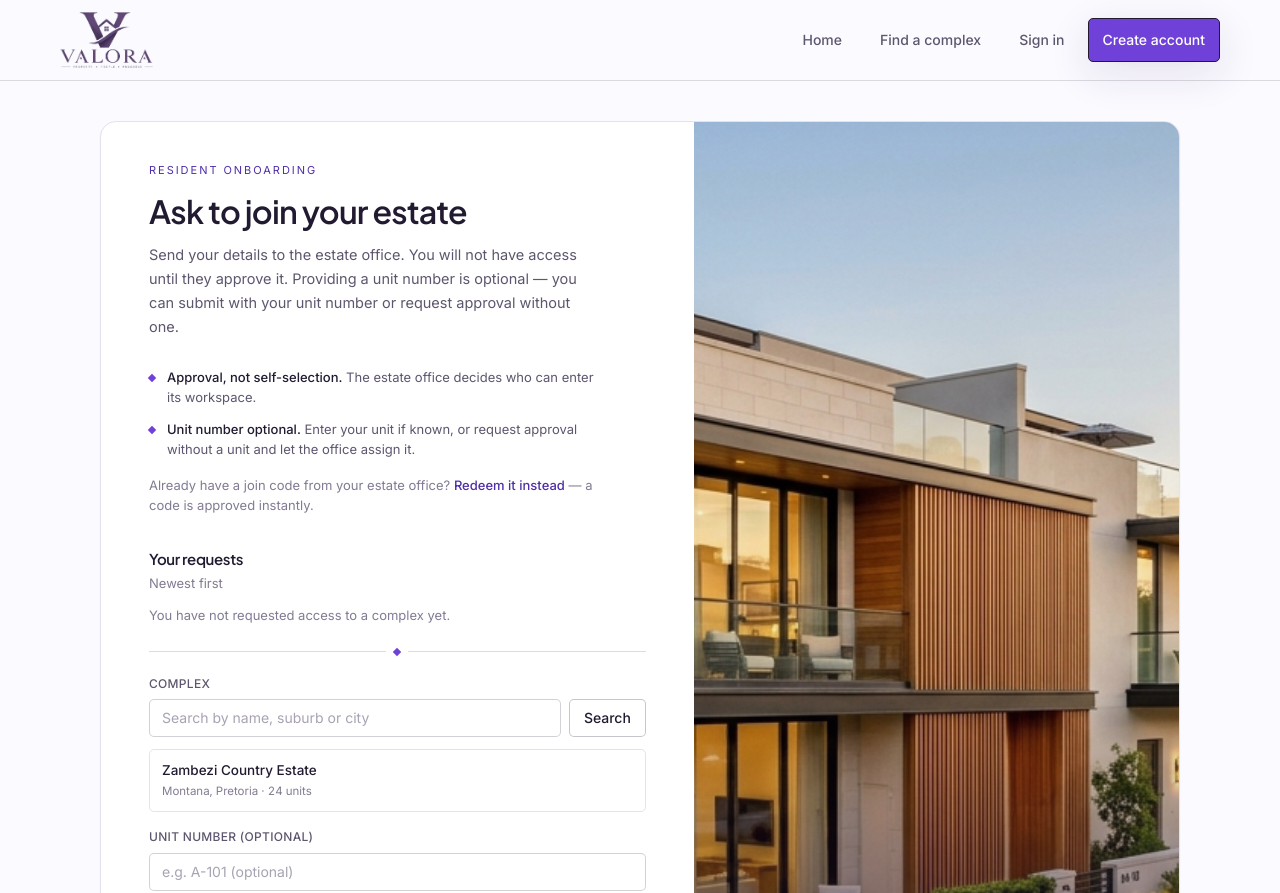
Test case: RequestAccess › submits with unit number when the resident provides one
The image size is (1280, 893).
Click the button "Zambezi Country Estate Montana, Pretoria · 24 units" at [239, 770], box [149,750,646,812]
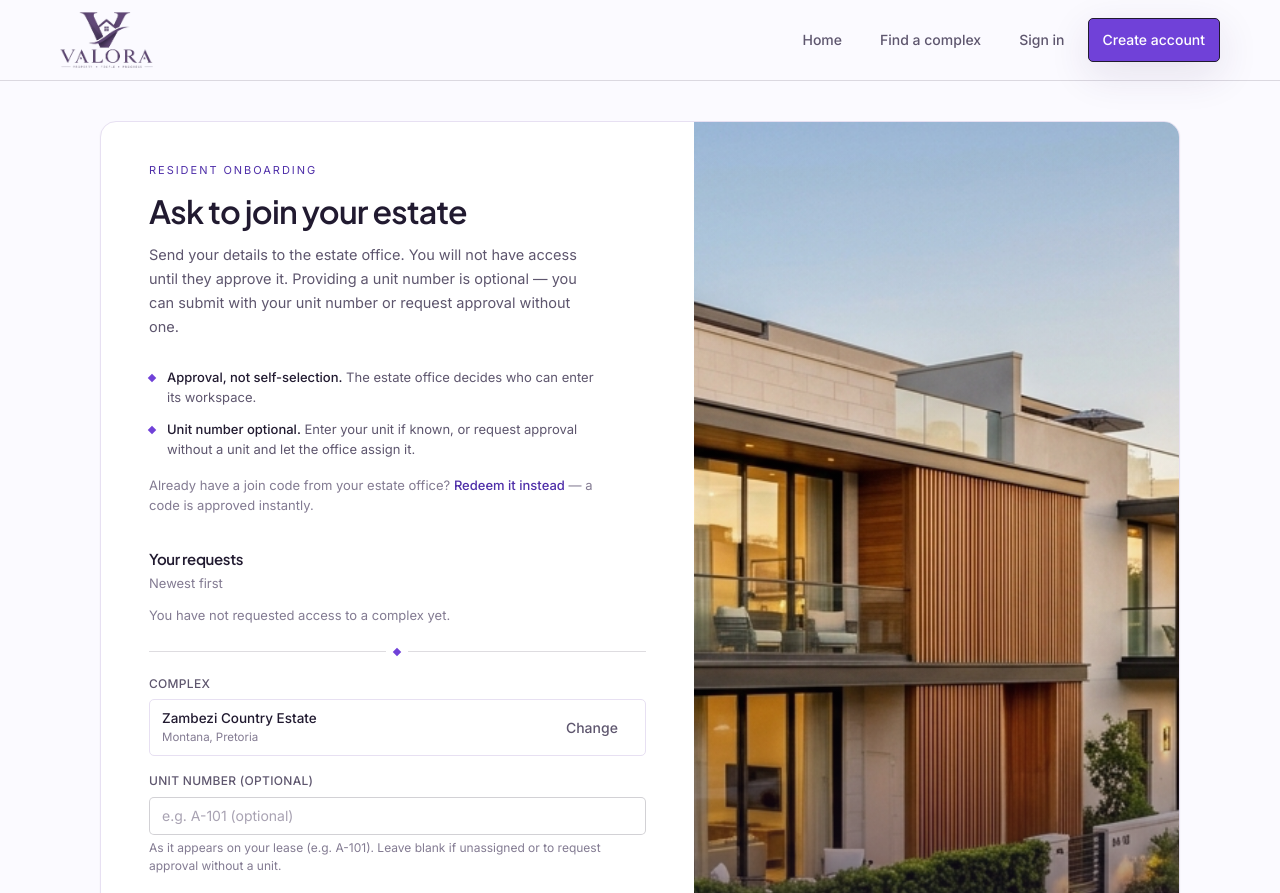
Type "B-204" into the field labelled "Unit number (optional)" at [397, 816], box [149,797,646,835]
(page scrolled)
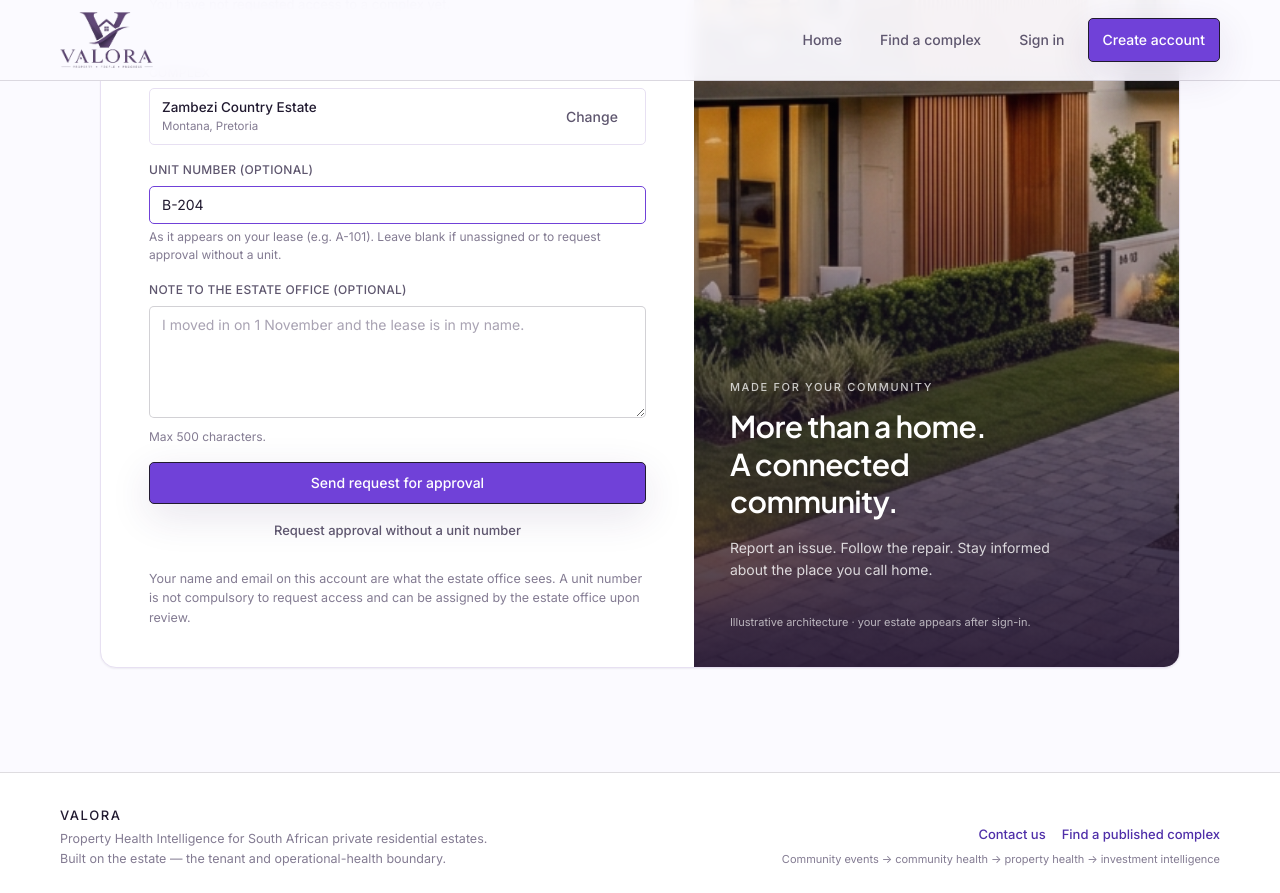
Click the button "Send request for approval" at [397, 483], box [149,462,646,504]
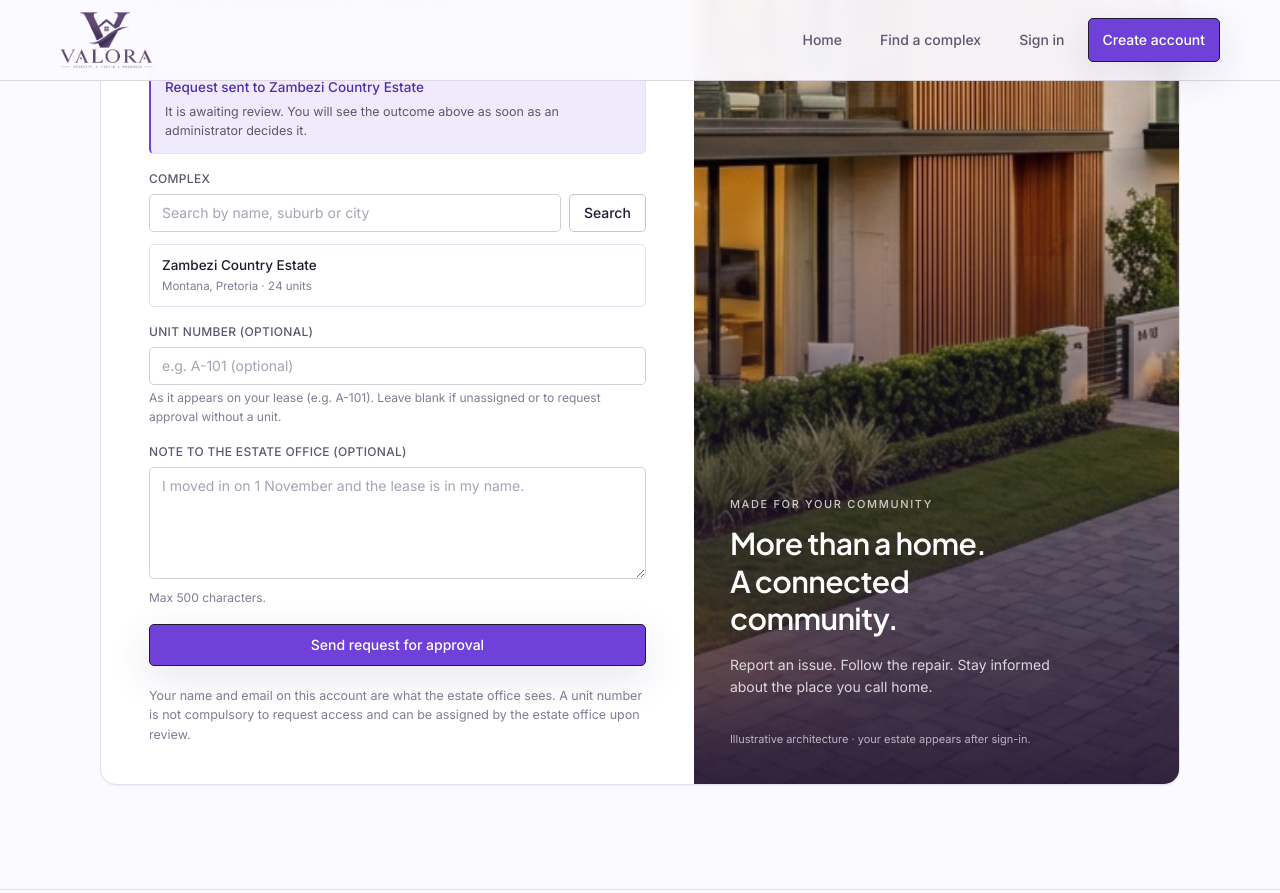
Now the text "Request sent to Zambezi Country Estate" is shown, box [165,79,424,95]
